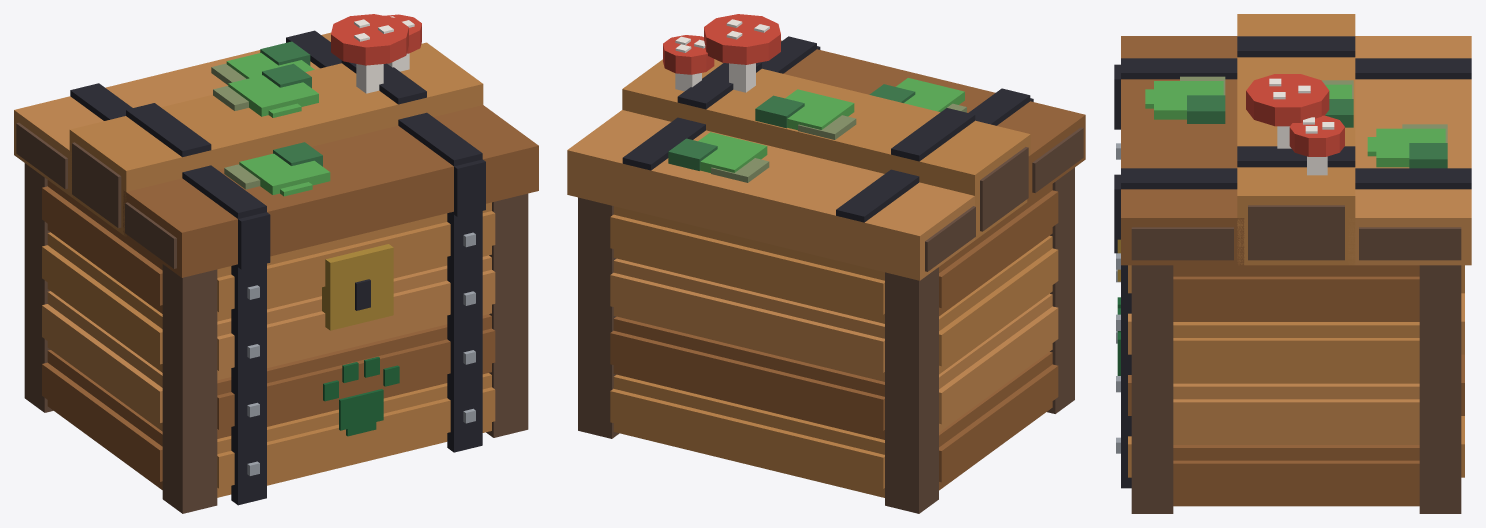
File: CatCafe_Prop_Crate_Woods.glb
The picture shows the model from 3 angles, left to right: view 1: azimuth 30°, elevation 25°; view 2: azimuth 150°, elevation 25°; view 3: azimuth 270°, elevation 25°; orthographic projection. The views are drawn at different scales.
Parts seen in each view (by area): view 1: CatCafe_Prop_Crate_Woods, CatCafe_Prop_Crate_Woods_Lid; view 2: CatCafe_Prop_Crate_Woods, CatCafe_Prop_Crate_Woods_Lid; view 3: CatCafe_Prop_Crate_Woods, CatCafe_Prop_Crate_Woods_Lid.
Boxes of the visible parts, x1,y1,x2,y2 form: CatCafe_Prop_Crate_Woods: (24, 163, 528, 513); CatCafe_Prop_Crate_Woods_Lid: (14, 14, 538, 277); CatCafe_Prop_Crate_Woods: (578, 167, 1074, 513); CatCafe_Prop_Crate_Woods_Lid: (567, 14, 1085, 280); CatCafe_Prop_Crate_Woods: (1114, 143, 1464, 513); CatCafe_Prop_Crate_Woods_Lid: (1114, 14, 1471, 265).
Size of the model in its own units: 2.52 by 2.43 by 2.06.
Materials: 1 (1 with a texture image).
